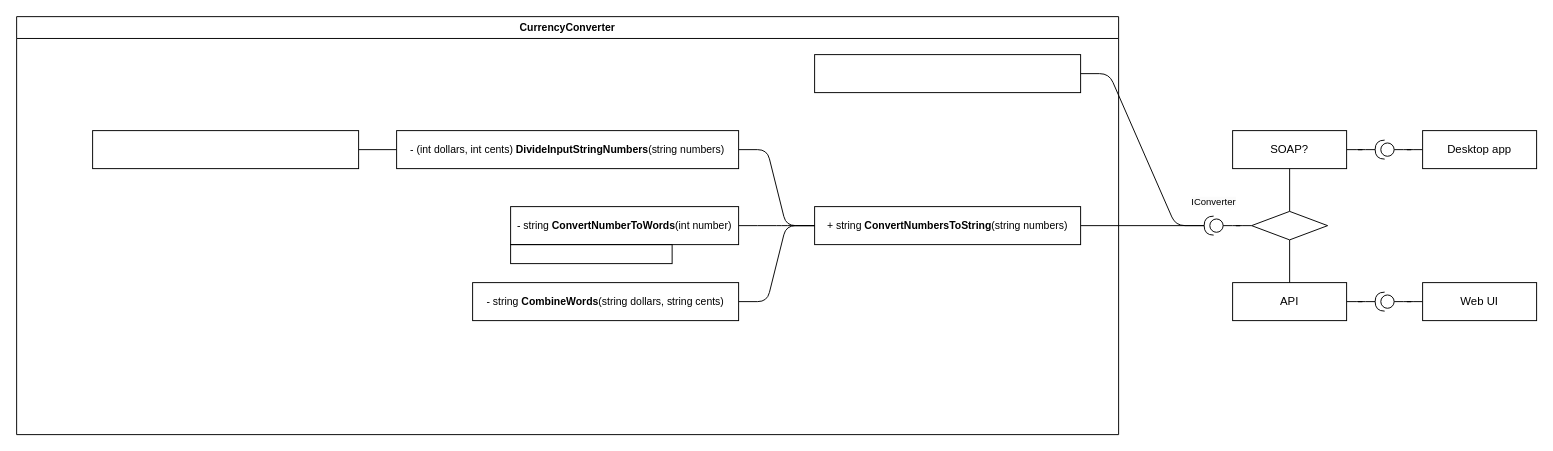
The diagram is 1553 pixels wide and 451 high, and some of its shapes have lost their labels. The centre of each missing label's shape, as x and y in pixels:
"- bool InputStringNumbersAreValid (string numbers)" goes at [947,73].
"- int ConvertStringNumberToInt (string number)" goes at [225,149].
"Called twice for dollars and cents" goes at [591,254].
"OR" goes at [1289,225].
